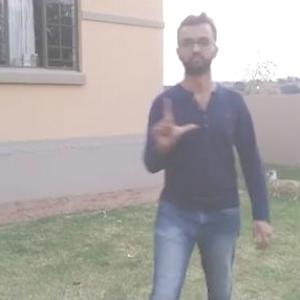land_hand: (147, 92, 202, 156)
